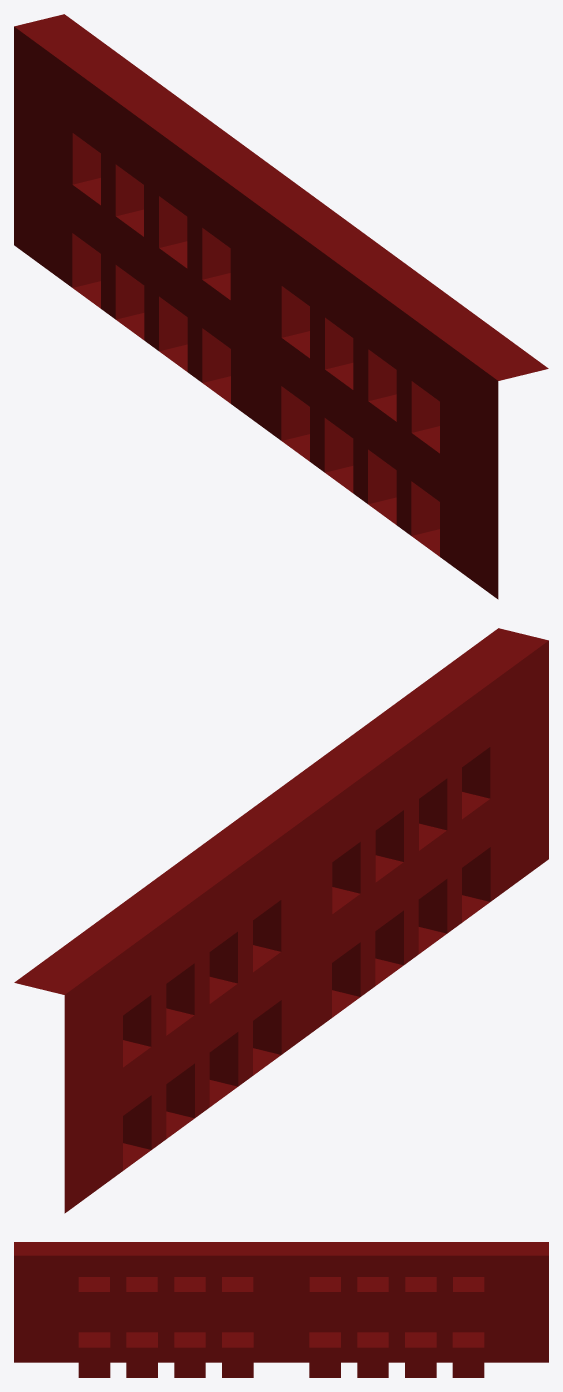
Rendered from SM_Wall_Top_E.fbx.
3 renders of one model, top to bottom at view 1: azimuth 30°, elevation 25°; view 2: azimuth 150°, elevation 25°; view 3: azimuth 270°, elevation 25°, orthographic. The views are drawn at different scales.
Visible parts, largest first — view 1: SM_Wall_Top_E; view 2: SM_Wall_Top_E; view 3: SM_Wall_Top_E.
Part boxes in pixels (x1,y1,x2,y2): SM_Wall_Top_E: [14, 14, 548, 599]; SM_Wall_Top_E: [14, 628, 548, 1213]; SM_Wall_Top_E: [14, 1242, 548, 1377].
Bounding box in the file's own units: 9.18 × 34.13 × 137.
